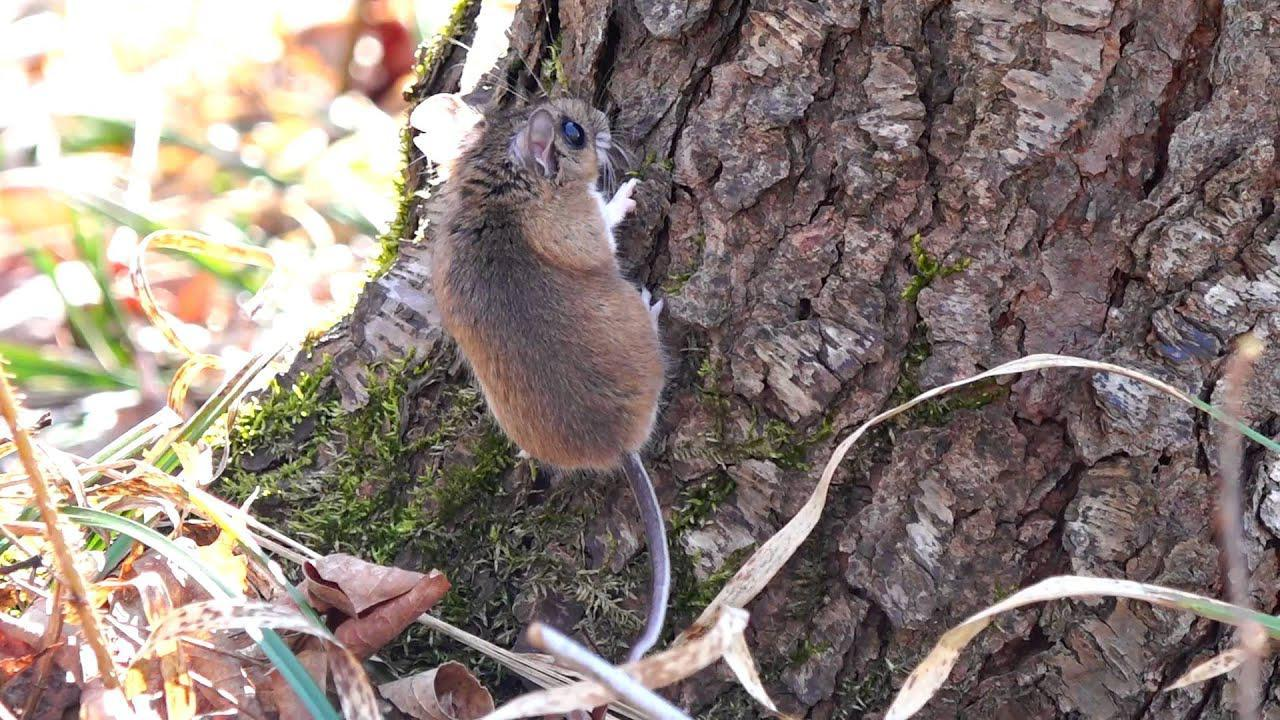rat: (410, 95, 668, 666)
